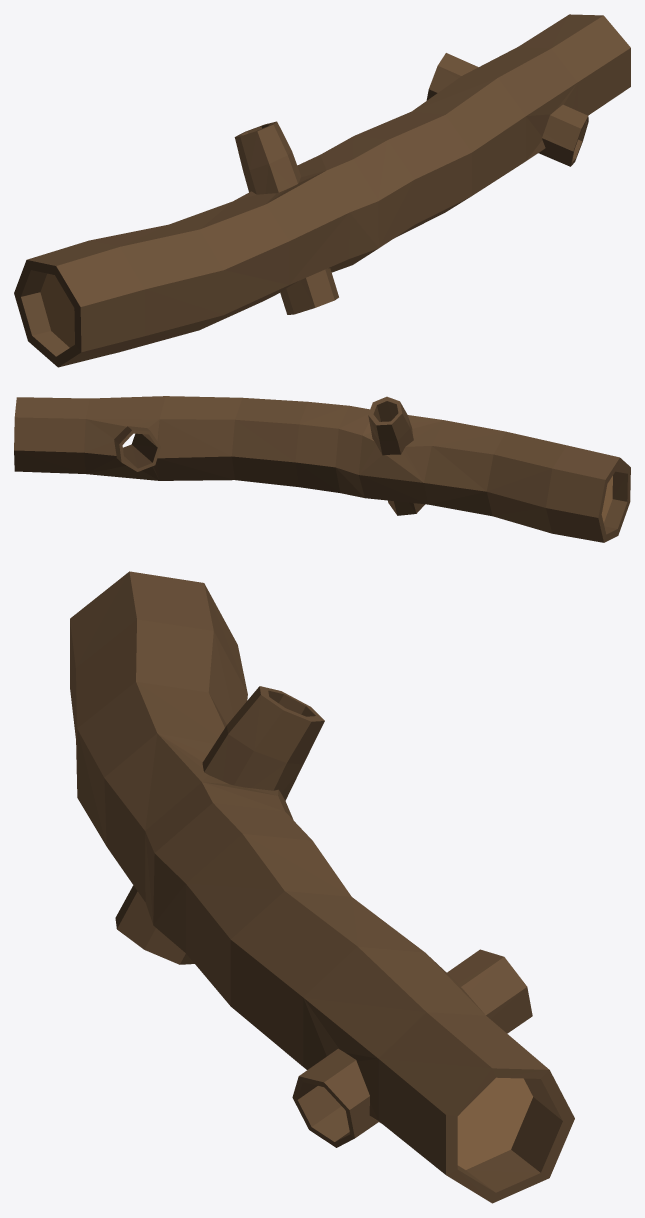
The model's file is log_1.glb.
3 renders of one model, top to bottom at view 1: azimuth 30°, elevation 25°; view 2: azimuth 150°, elevation 25°; view 3: azimuth 270°, elevation 25°, orthographic. The views are drawn at different scales.
Visible parts, largest first — view 1: Cylinder.003; view 2: Cylinder.003; view 3: Cylinder.003.
Part boxes in pixels (left/top/right/bottom): Cylinder.003: left=14, top=14, right=630, bottom=367; Cylinder.003: left=14, top=396, right=630, bottom=542; Cylinder.003: left=70, top=571, right=574, bottom=1203.
Bounding box in the file's own units: 3.15 × 0.7544 × 1.31.
